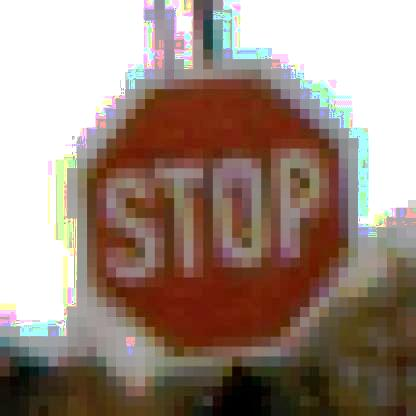Stop Sign: (73, 58, 370, 362)
